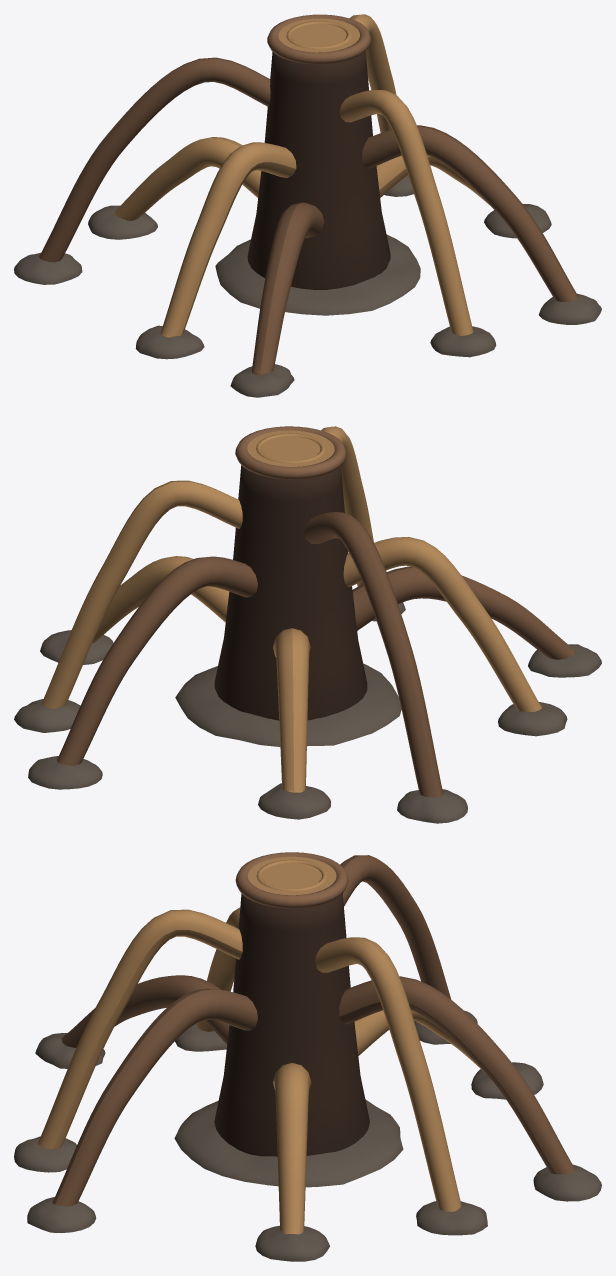
Rendered from extra_mangrove_roots.glb.
3 renders of one model, top to bottom at view 1: azimuth 30°, elevation 25°; view 2: azimuth 150°, elevation 25°; view 3: azimuth 270°, elevation 25°, orthographic. The views are drawn at different scales.
Visible parts, largest first — view 1: wood, bark; view 2: wood, bark; view 3: wood, bark.
Part boxes in pixels (x1,y1,x2,y2): wood: [14, 14, 601, 397]; bark: [267, 14, 371, 64]; wood: [14, 426, 601, 823]; bark: [235, 426, 346, 479]; wood: [14, 855, 601, 1261]; bark: [235, 852, 348, 908].
Size of the model in its own units: 2.8 by 1.4 by 2.8.
